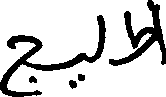ا: (150, 0, 163, 65)
ج: (0, 32, 41, 95)
خ: (124, 26, 156, 65)
ل: (122, 0, 152, 36), (93, 13, 105, 63)
ي: (71, 50, 87, 89)
